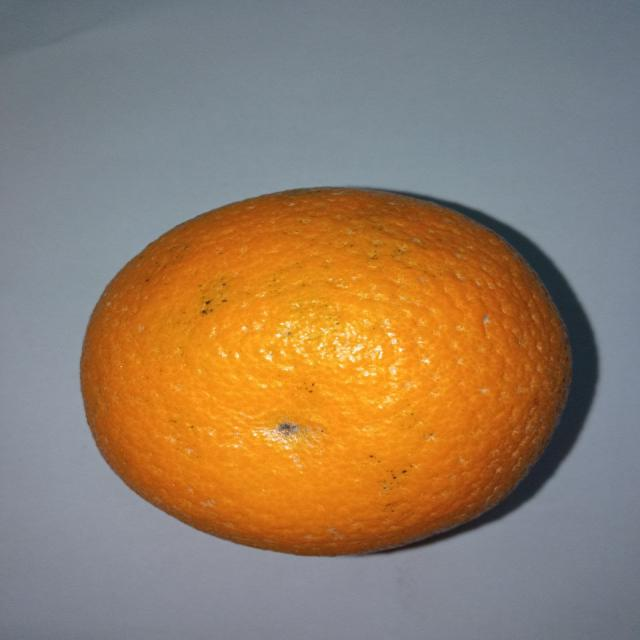fresh_orange: (79, 186, 568, 556)
